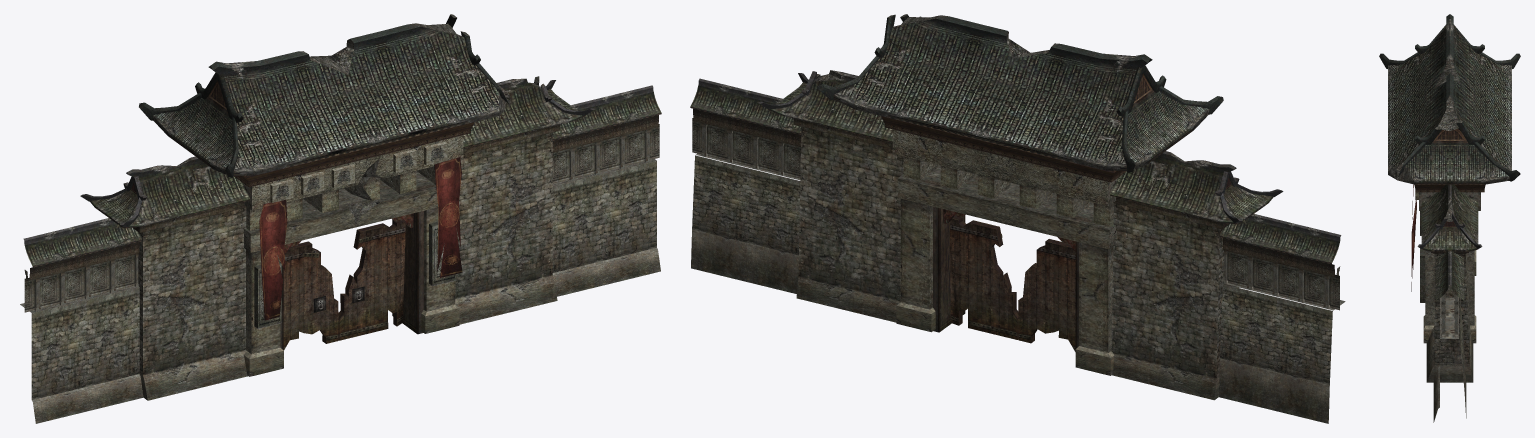
File: b_general_gate_01.glb
3 renders of one model, left to right at view 1: azimuth 30°, elevation 25°; view 2: azimuth 150°, elevation 25°; view 3: azimuth 270°, elevation 25°, orthographic. The views are drawn at different scales.
Visible parts, largest first — view 1: B_general_gate_01; view 2: B_general_gate_01; view 3: B_general_gate_01.
Boxes of the visible parts, x1,y1,x2,y2 form: B_general_gate_01: (20,14,661,423); B_general_gate_01: (690,14,1345,423); B_general_gate_01: (1379,14,1520,422).
Bounding box in the file's own units: 31.67 × 14.76 × 7.77.
1 material, 1 textured.
